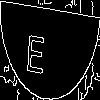E: (25, 24, 46, 75)
